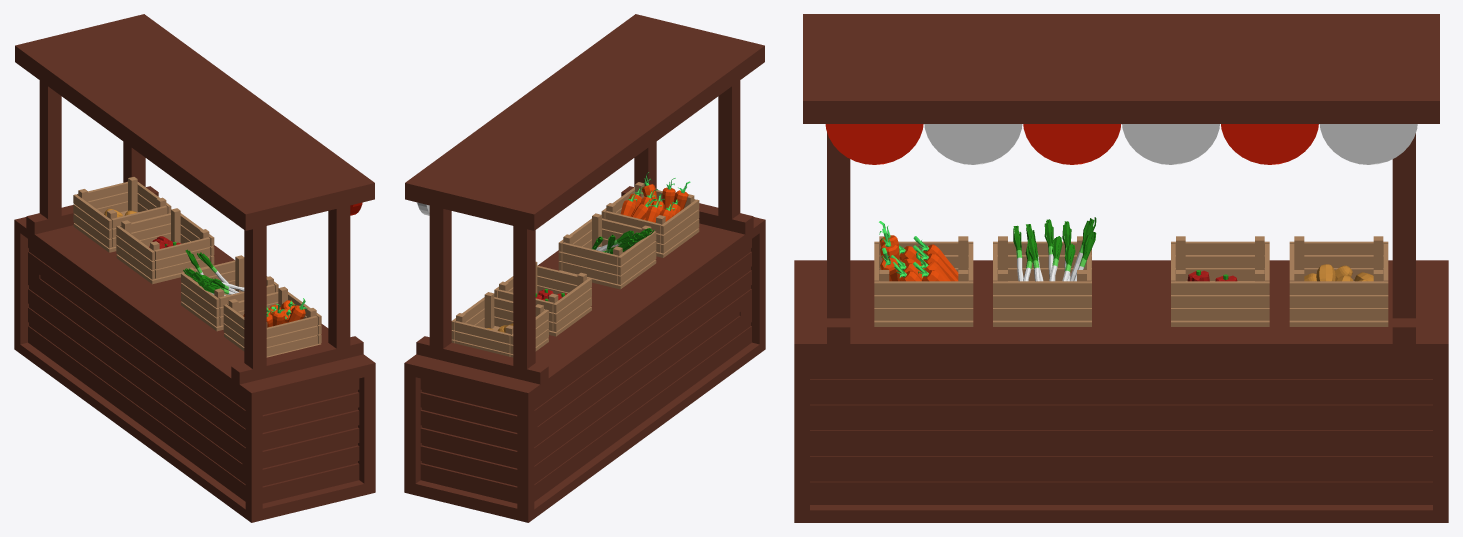
Rendered from etal_de_fruits.fbx.
The picture shows the model from 3 angles, left to right: view 1: azimuth 30°, elevation 25°; view 2: azimuth 150°, elevation 25°; view 3: azimuth 270°, elevation 25°; orthographic projection. The views are drawn at different scales.
Parts seen in each view (by area): view 1: etal, cageot.002, cageot.003, cageot, cageot.001; view 2: etal, cageot.001, cageot.003, cageot.002, cageot; view 3: etal, truc_au_dessus, cageot.002, cageot.003, cageot.001, cageot.
Part boxes in pixels (x1=…): etal: x1=14, y1=14, x2=375, y2=522; cageot.002: x1=116, y1=208, x2=214, y2=284; cageot.003: x1=73, y1=177, x2=171, y2=252; cageot: x1=223, y1=286, x2=321, y2=357; cageot.001: x1=181, y1=255, x2=278, y2=331; etal: x1=404, y1=14, x2=765, y2=522; cageot.001: x1=558, y1=213, x2=656, y2=289; cageot.003: x1=451, y1=292, x2=548, y2=357; cageot.002: x1=494, y1=261, x2=591, y2=336; cageot: x1=601, y1=182, x2=699, y2=257; etal: x1=794, y1=14, x2=1448, y2=522; truc_au_dessus: x1=825, y1=124, x2=1417, y2=164; cageot.002: x1=1171, y1=236, x2=1269, y2=326; cageot.003: x1=1289, y1=236, x2=1388, y2=326; cageot.001: x1=993, y1=236, x2=1091, y2=326; cageot: x1=874, y1=236, x2=973, y2=326.
Size of the model in its own units: 209 by 473 by 662.
